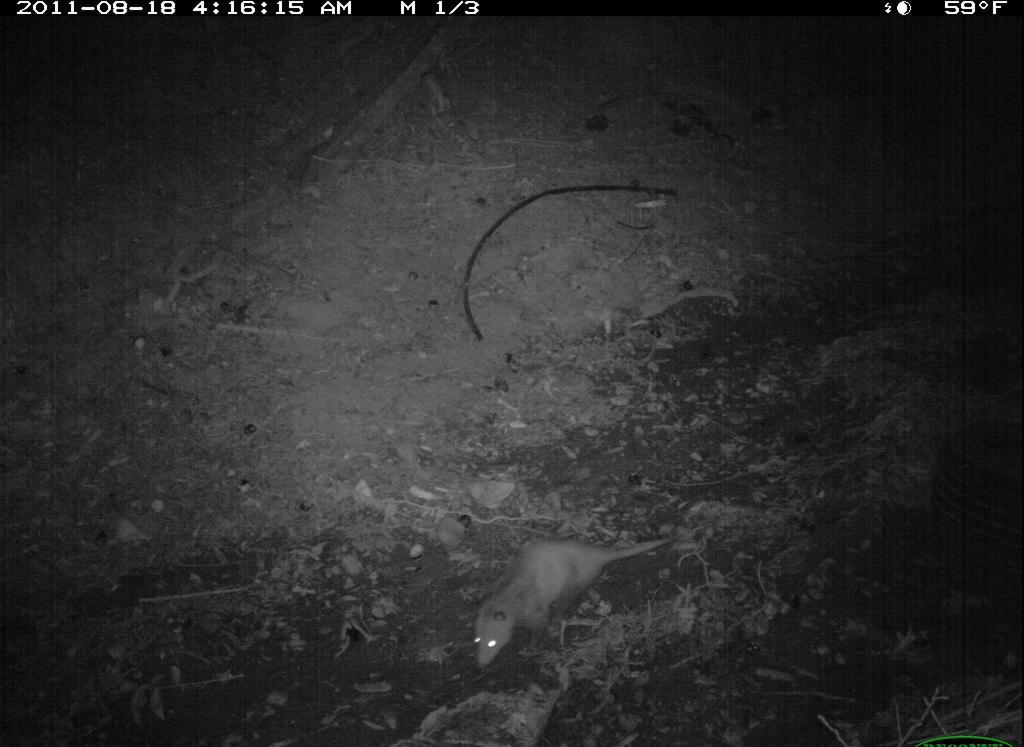opossum: (466, 519, 689, 679)
